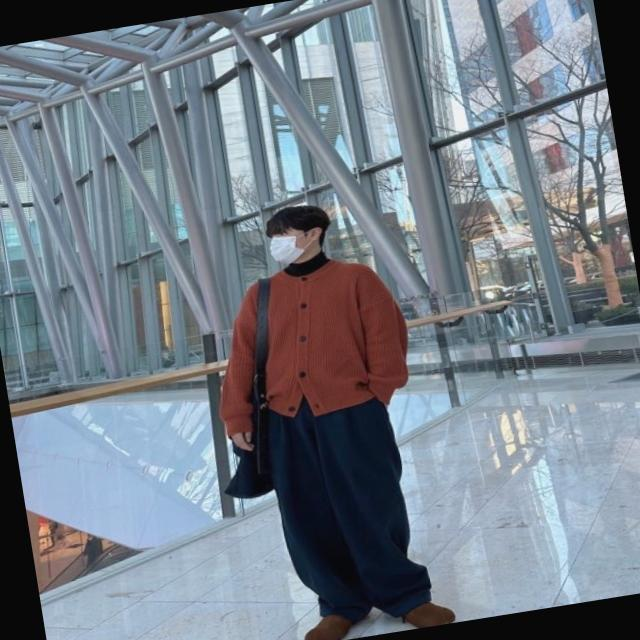cardigan: (197, 250, 422, 440)
cottonpants: (259, 392, 438, 626)
